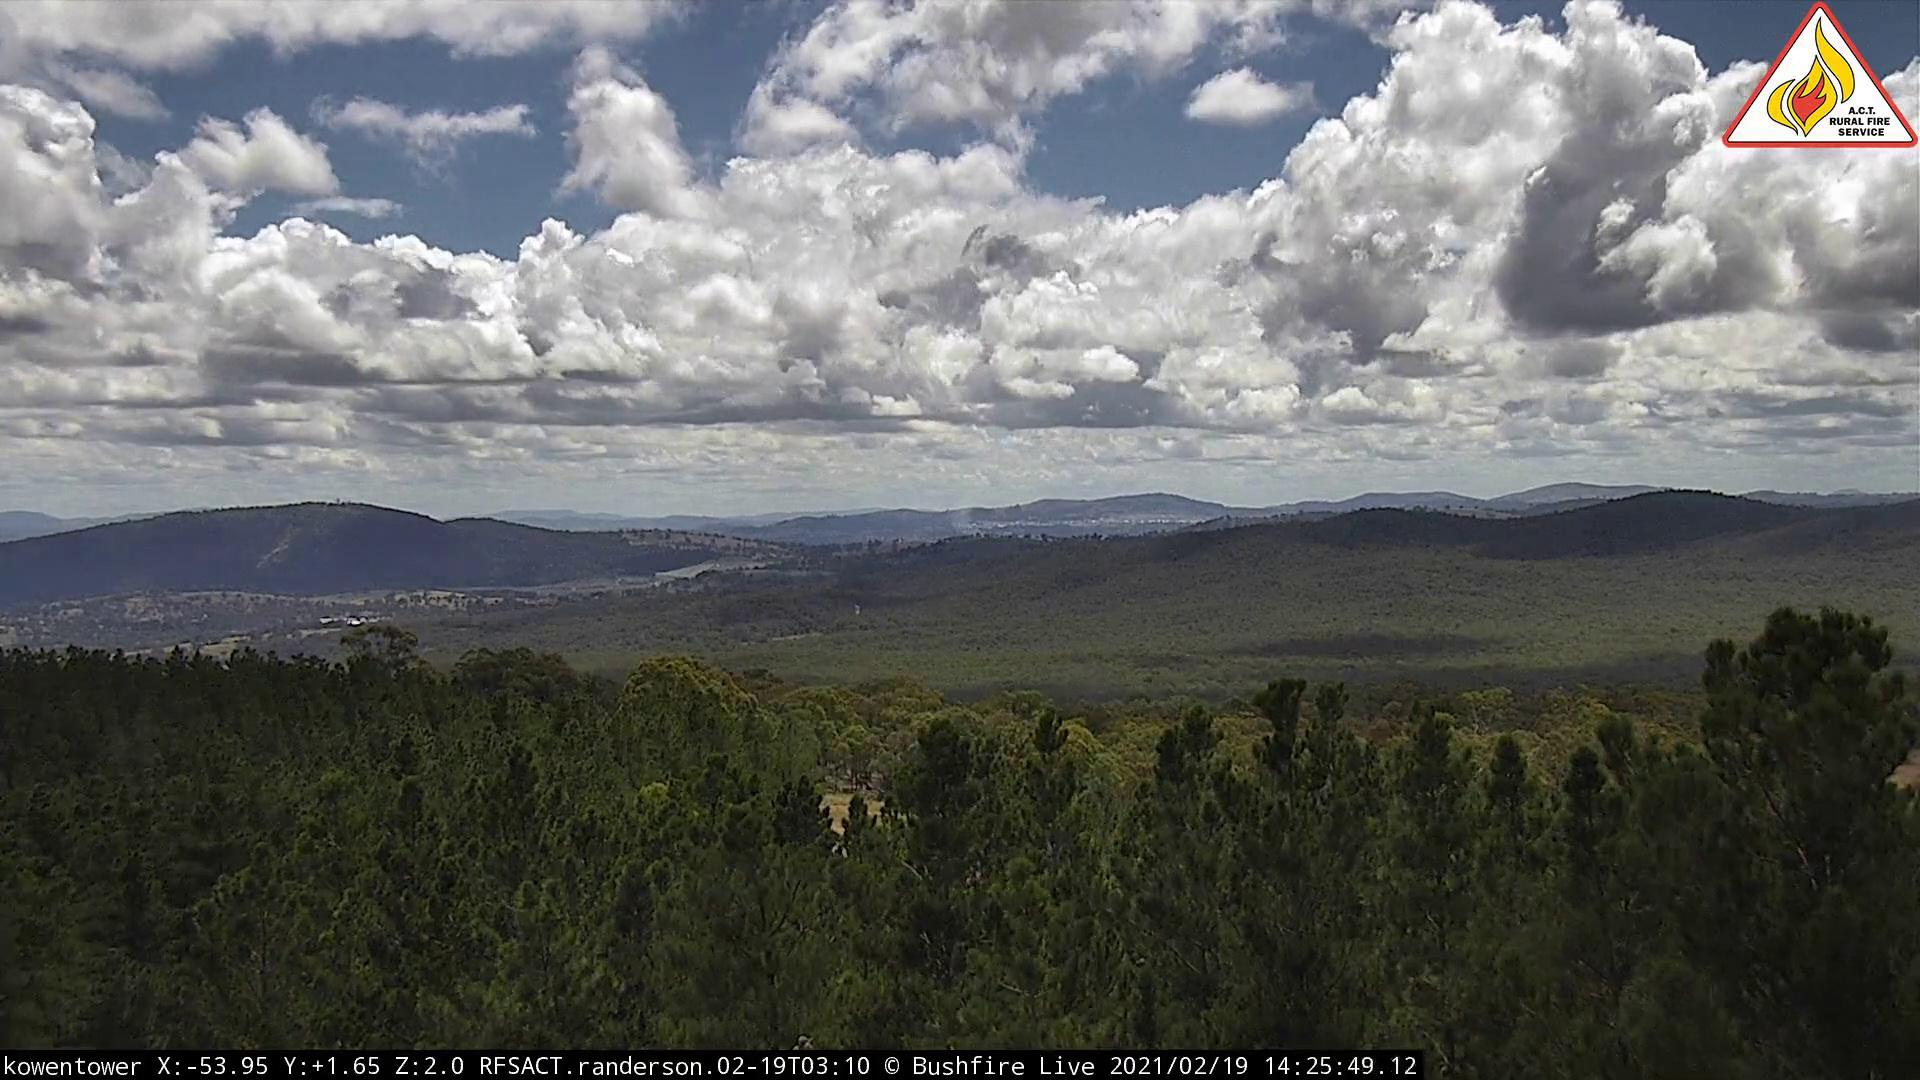Smoke: (916, 492, 1000, 547)
